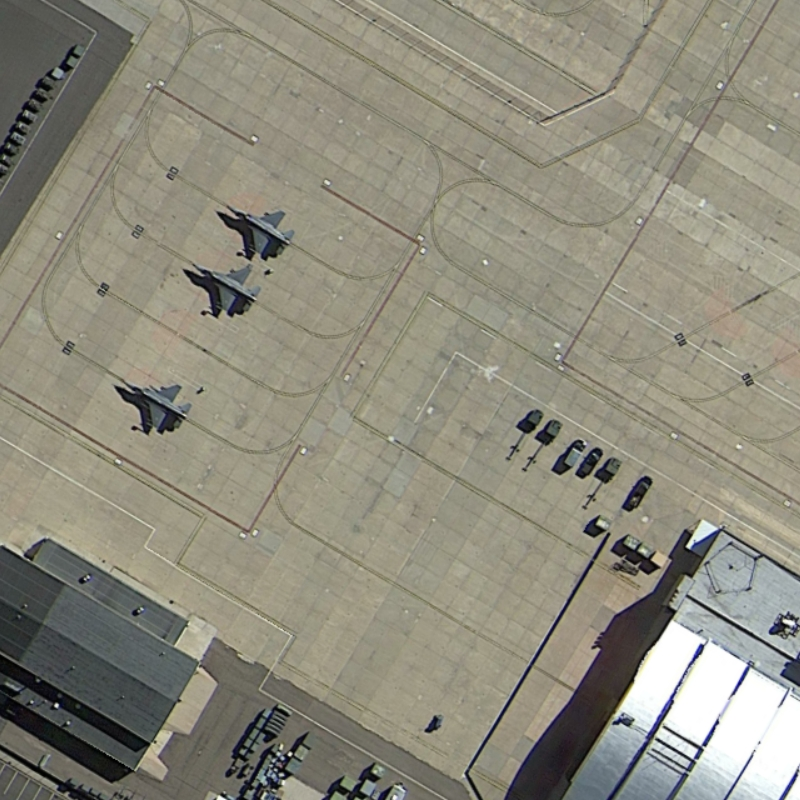A5: (115, 370, 197, 439), (219, 194, 299, 264), (188, 256, 265, 321)
